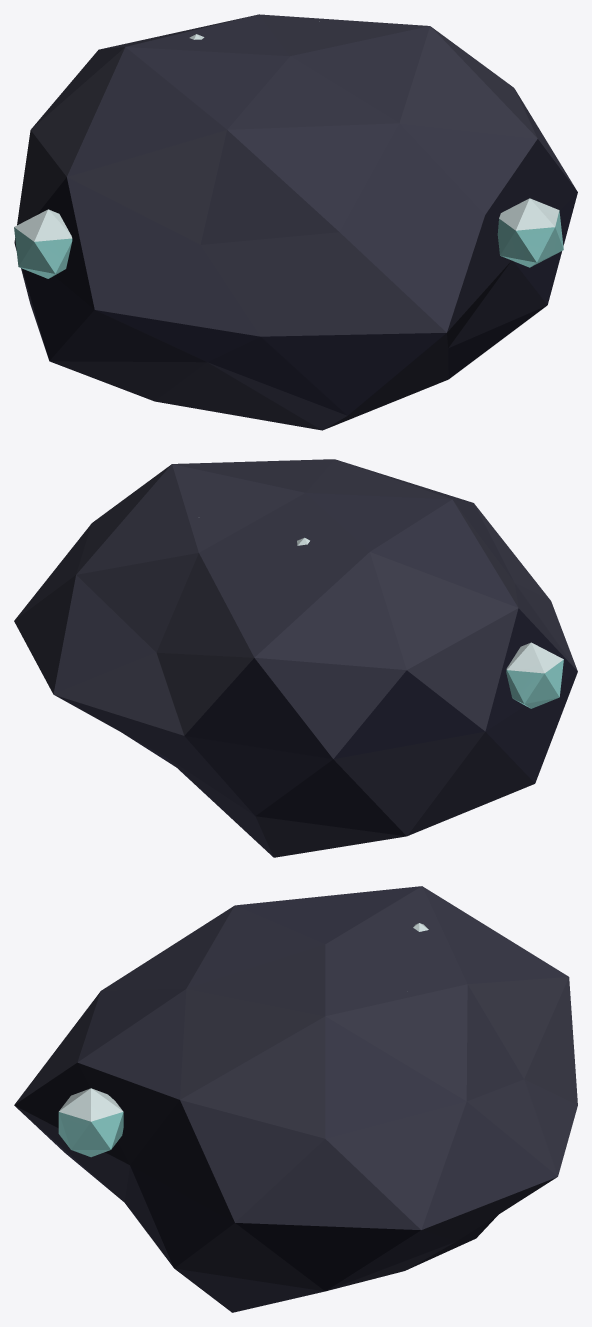
The model's file is Rocks_Ore_Void.glb.
3 renders of one model, top to bottom at view 1: azimuth 30°, elevation 25°; view 2: azimuth 150°, elevation 25°; view 3: azimuth 270°, elevation 25°, orthographic. The views are drawn at different scales.
Visible parts, largest first — view 1: VoidOre; view 2: VoidOre; view 3: VoidOre.
Boxes of the visible parts, x1,y1,x2,y2 form: VoidOre: [14, 14, 577, 430]; VoidOre: [14, 459, 577, 857]; VoidOre: [14, 886, 577, 1312].
Bounding box in the file's own units: 2.07 × 1.2 × 1.93.
